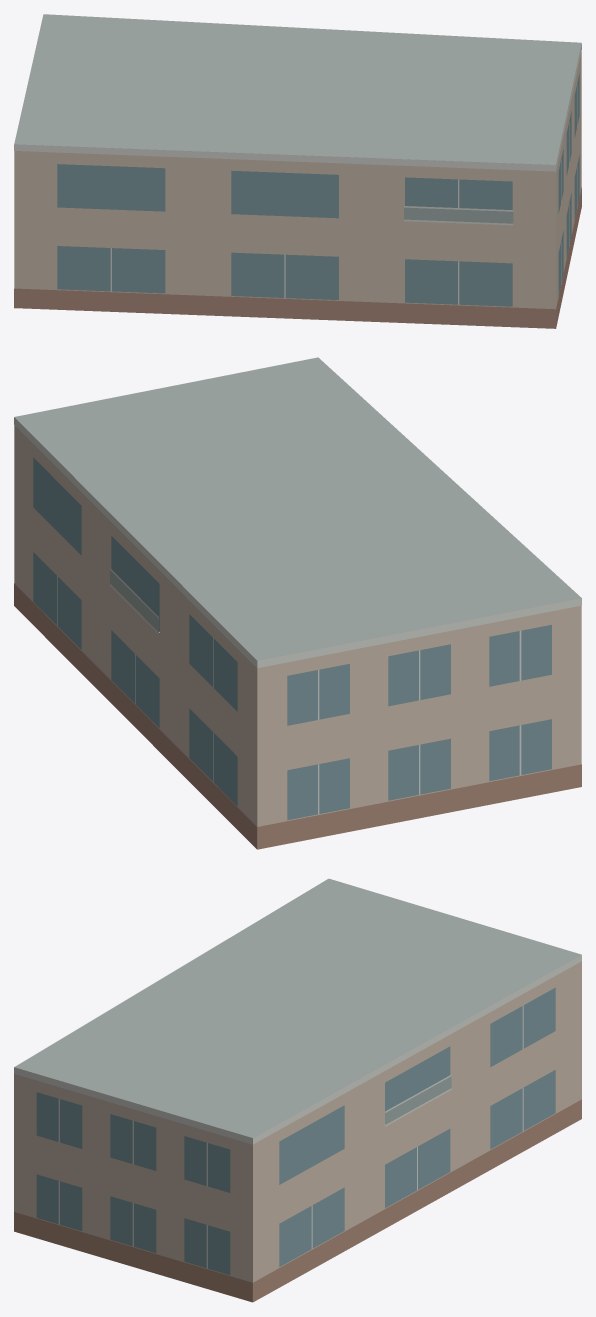
File: survey-upis-32473338.glb
The picture shows the model from 3 angles, top to bottom: view 1: azimuth 30°, elevation 25°; view 2: azimuth 150°, elevation 25°; view 3: azimuth 270°, elevation 25°; orthographic projection. The views are drawn at different scales.
Visible parts, largest first — view 1: survey-upis-32473338.tmp; view 2: survey-upis-32473338.tmp; view 3: survey-upis-32473338.tmp.
Boxes of the visible parts, bbox=[...] form: survey-upis-32473338.tmp: bbox=[14, 14, 581, 328]; survey-upis-32473338.tmp: bbox=[14, 357, 581, 849]; survey-upis-32473338.tmp: bbox=[14, 878, 581, 1302].
Bounding box in the file's own units: 20.67 × 6.1 × 19.1.
